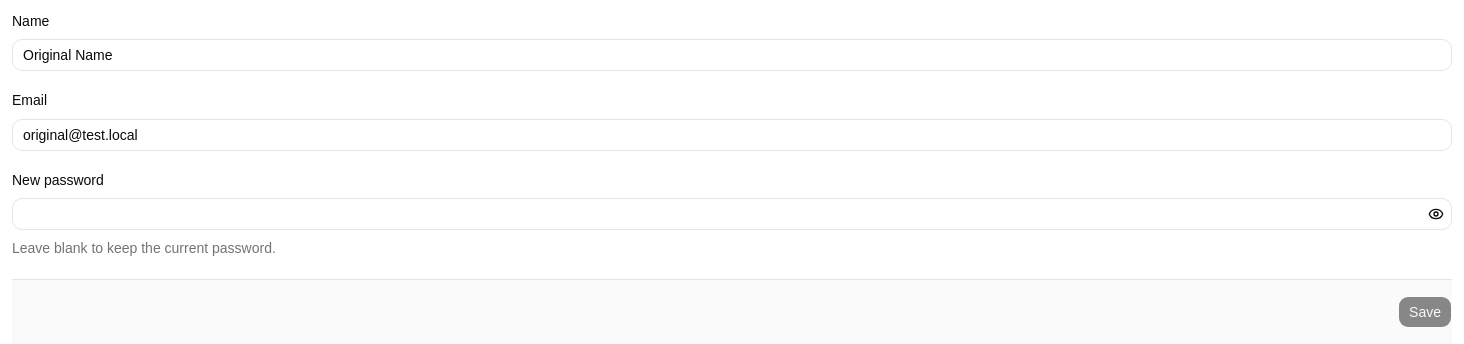
it: EditUserForm — the row it opened on › keeps Save disabled until something actually changes
Expected: the button "Save" is disabled, [1398,296,1452,328]
Replace the text in the field labelled "Name" with "Renamed" at point(732, 55), box [12,39,1452,71]
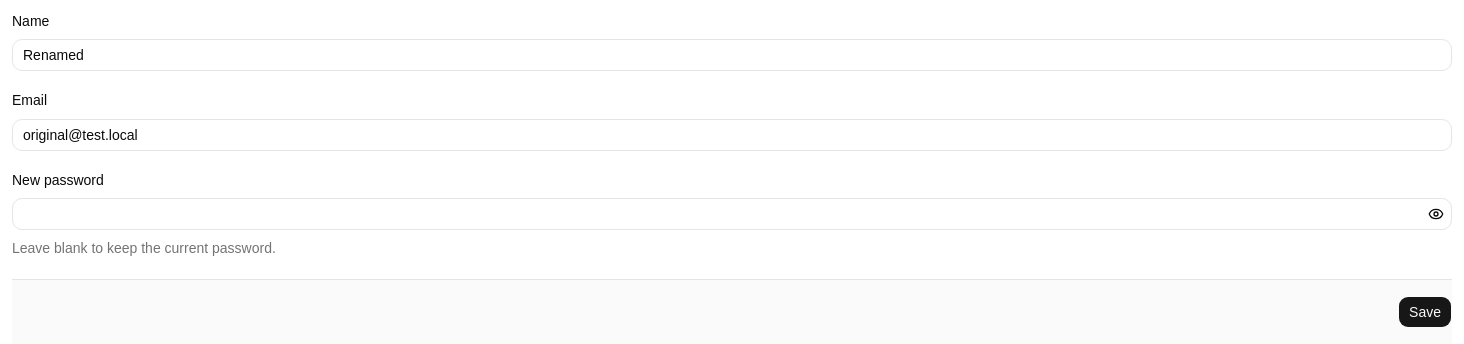
Expected: the button "Save" is enabled, [1398,296,1452,328]
